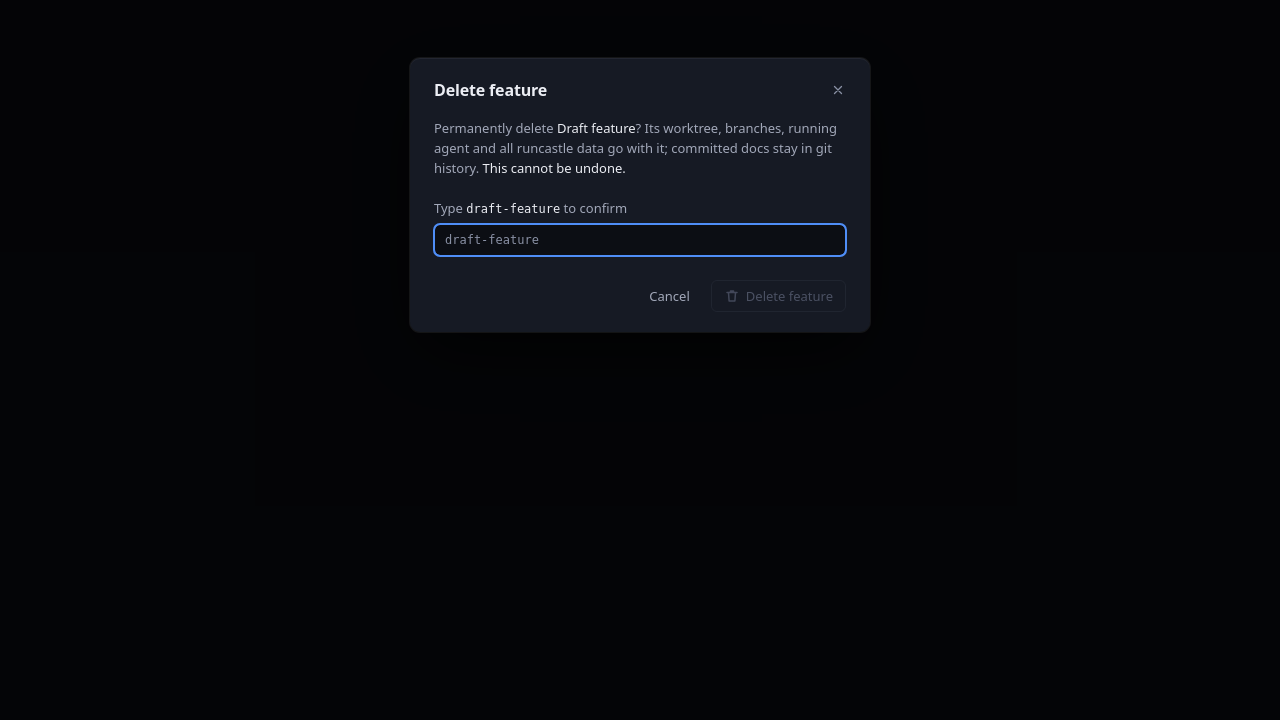
Test: DeleteFeatureDialog › arms deletion only when the exact slug is typed
Type "wrong-feature" into the field labelled "Type draft-feature to confirm" at (642, 240), box [445,225,839,255]
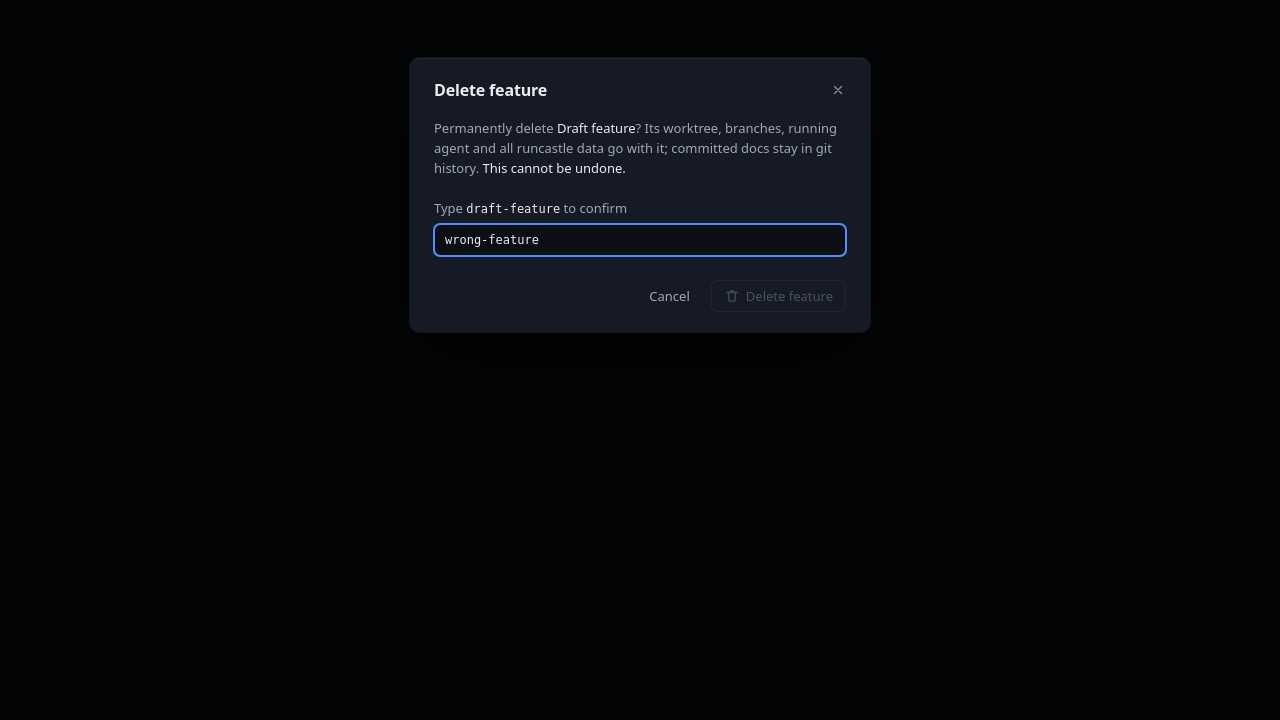
Expected: the button "Delete feature" is disabled, [711,280,846,312]
Replace the text in the field labelled "Type draft-feature to confirm" with "draft-feature" at (642, 240), box [445,225,839,255]
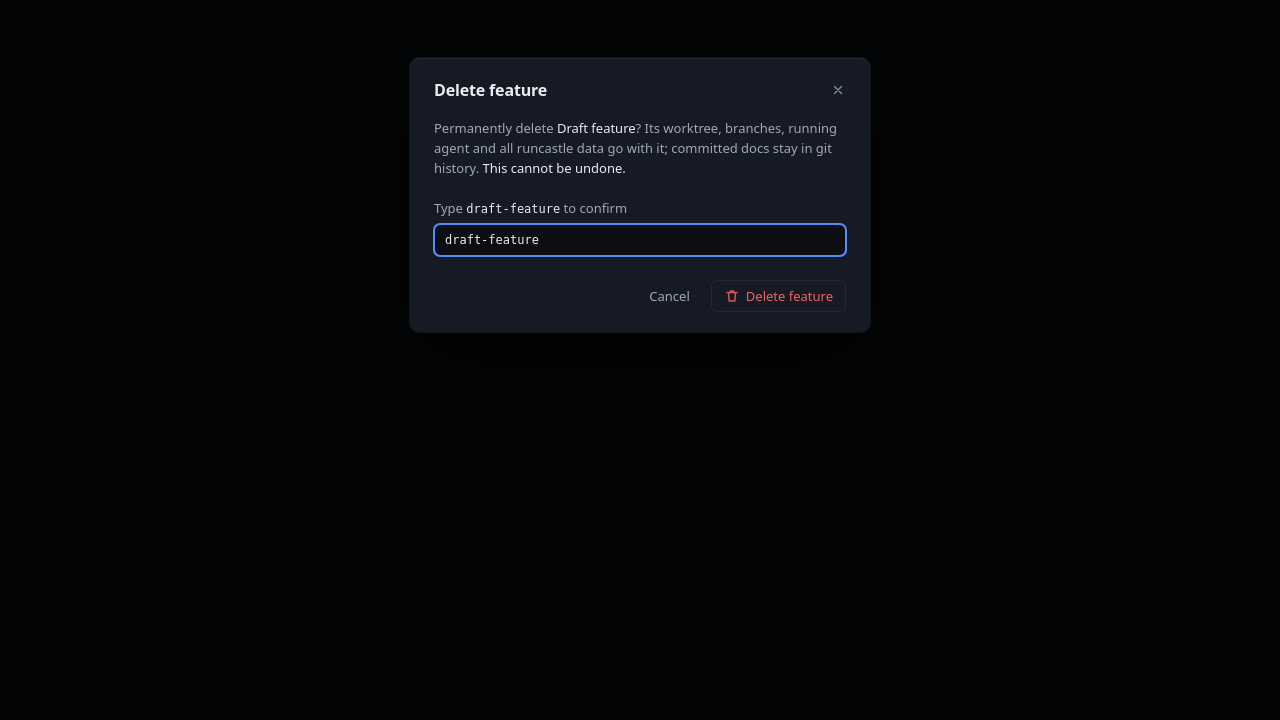
Expected: the button "Delete feature" is enabled, [711,280,846,312]
